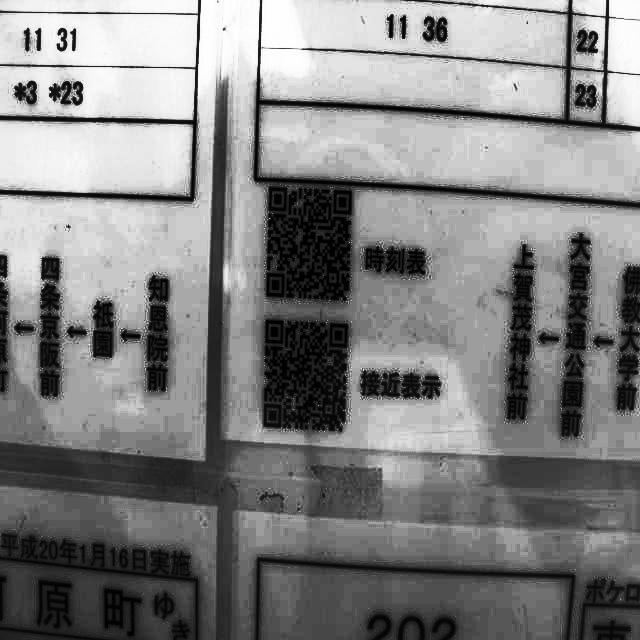qr_code: (267, 187, 352, 301), (264, 320, 347, 431)
